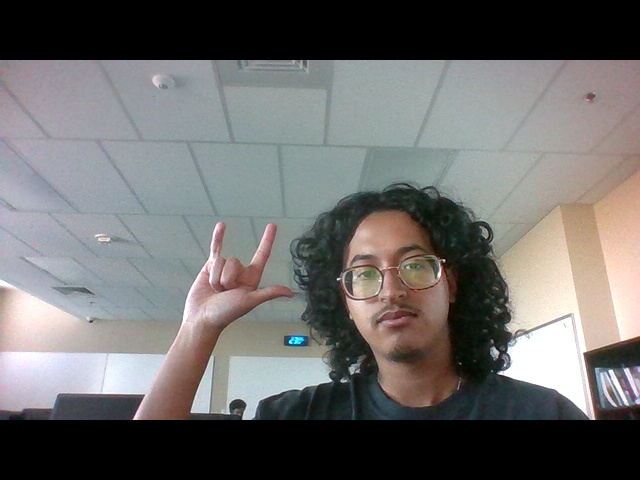iloveyou: (175, 204, 301, 340)
